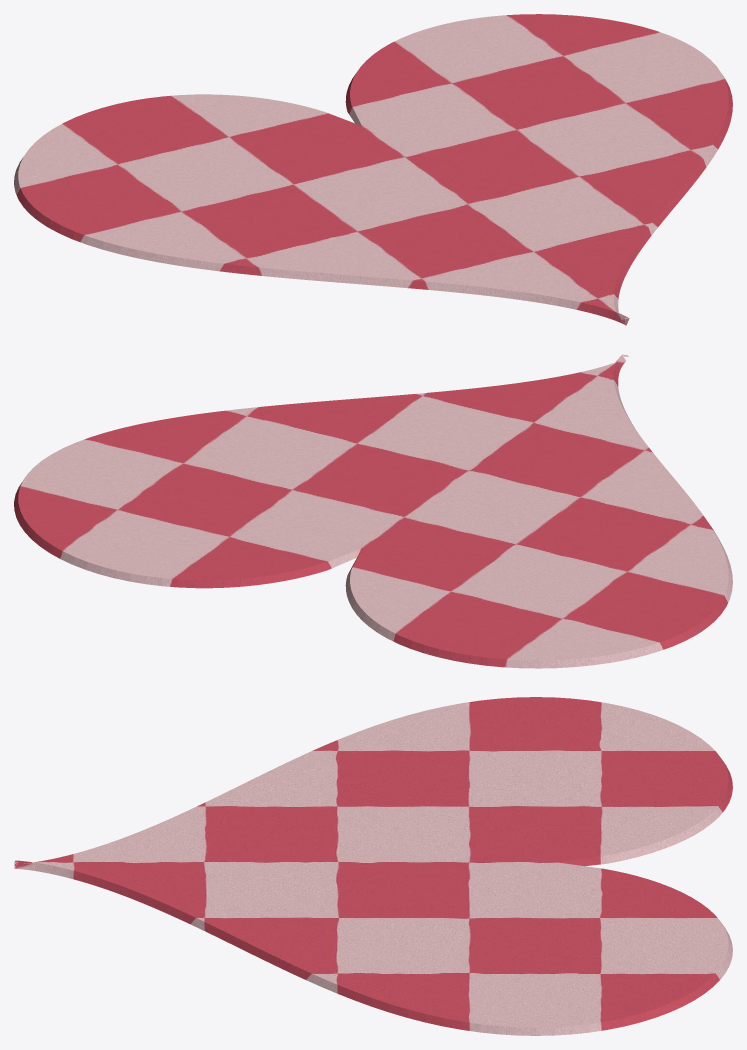
Rendered from rug-heart-checker.glb.
3 views of the same model, one above another, from view 1: azimuth 30°, elevation 25°; view 2: azimuth 150°, elevation 25°; view 3: azimuth 270°, elevation 25° (orthographic). The views are drawn at different scales.
Visible parts, largest first — view 1: rug-heart-checker; view 2: rug-heart-checker; view 3: rug-heart-checker.
Part boxes in pixels (x1,y1,x2,y2): rug-heart-checker: [14, 14, 732, 325]; rug-heart-checker: [14, 354, 732, 668]; rug-heart-checker: [14, 697, 732, 1035].
Size of the model in its own units: 1.1 by 0.00994 by 1.
1 material, 1 textured.
